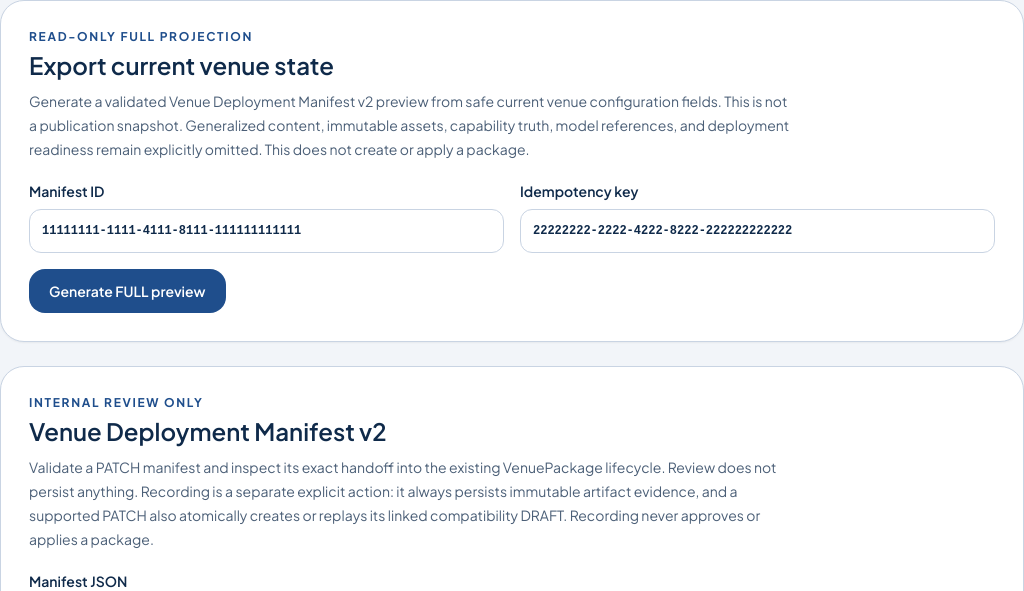
DeploymentManifestReview › clears a reviewed artifact when its envelope changes or a later request fails
Click the button "Generate FULL preview": {"x": 127, "y": 291} [29,269,226,313]
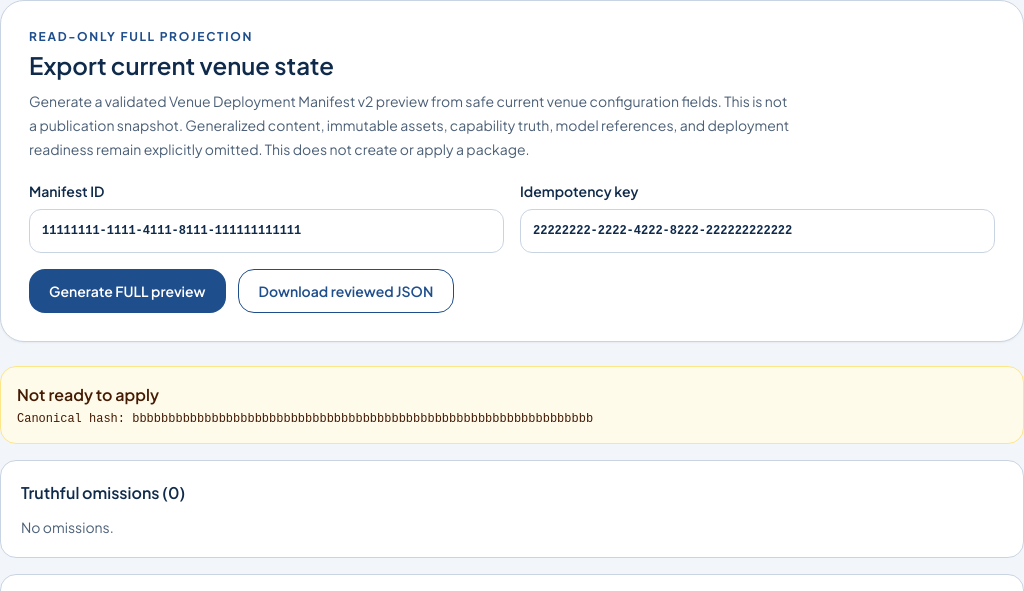
Now the button "Download reviewed JSON" is shown, box [238,269,454,313]
Replace the text in the field named "FULL manifest ID" with "33333333-3333-4333-8333-333333333333": {"x": 266, "y": 231} [29,209,504,253]
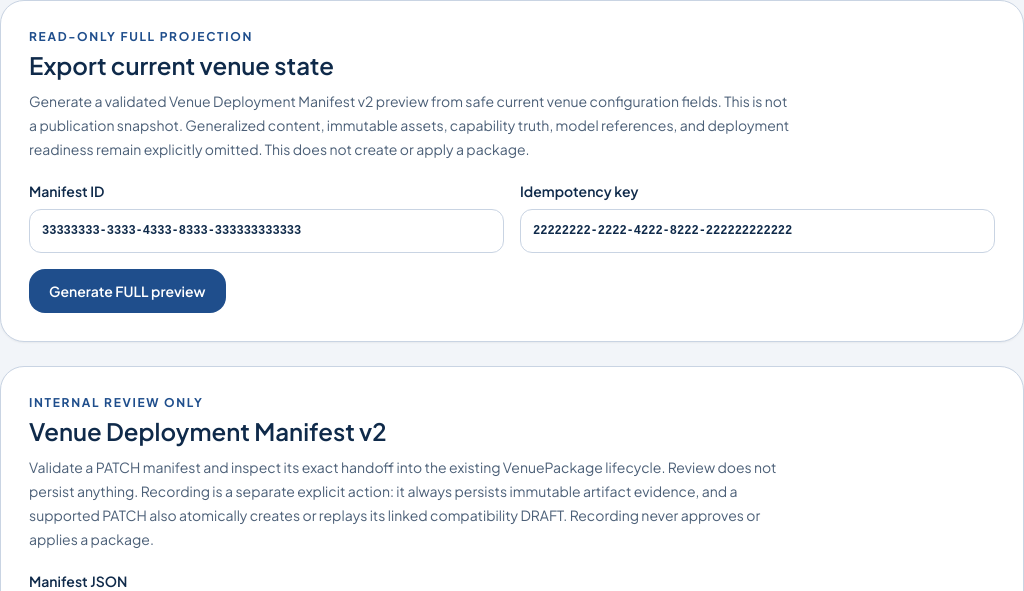
Now the button "Download reviewed JSON" is gone
Click the button "Generate FULL preview": {"x": 127, "y": 291} [29,269,226,313]
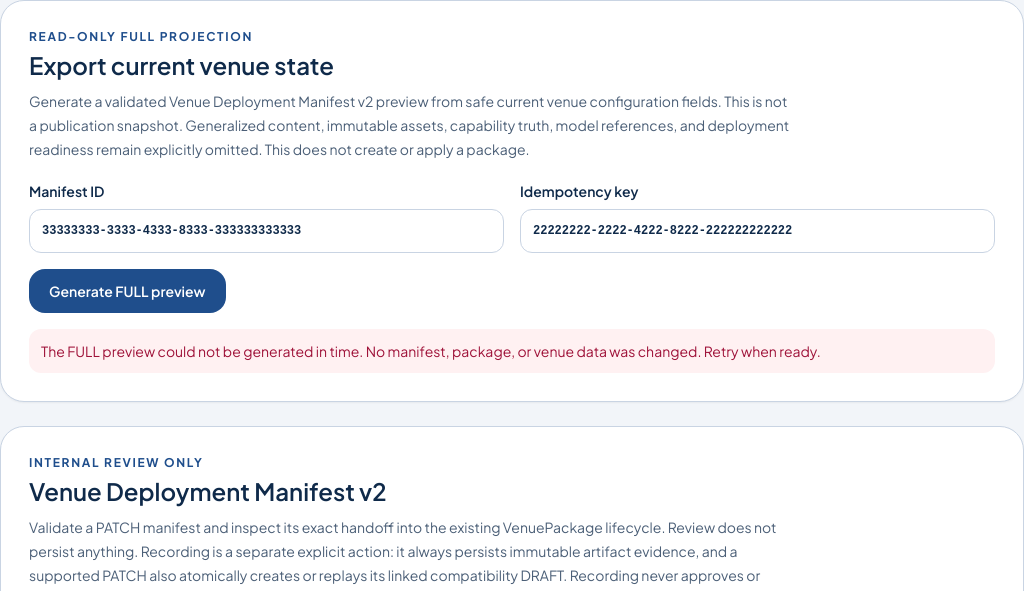
Expected: the button "Download reviewed JSON" is not shown
Now the message is shown, box [29,329,995,373]
